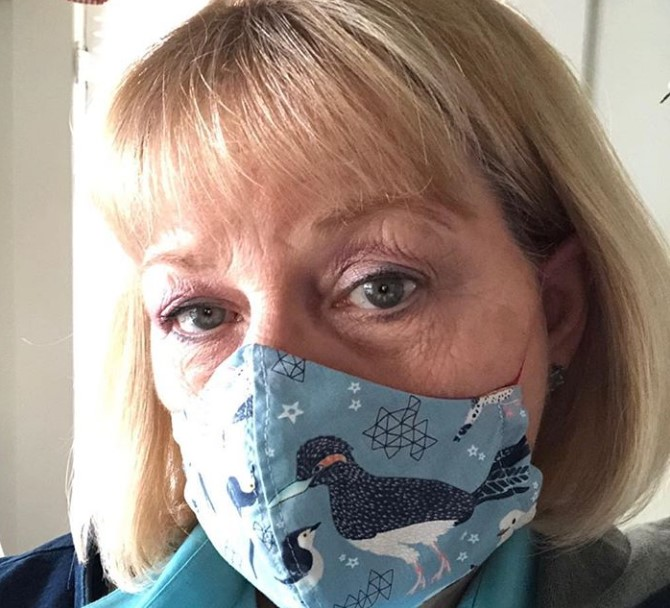face_with_mask: (122, 5, 636, 608)
